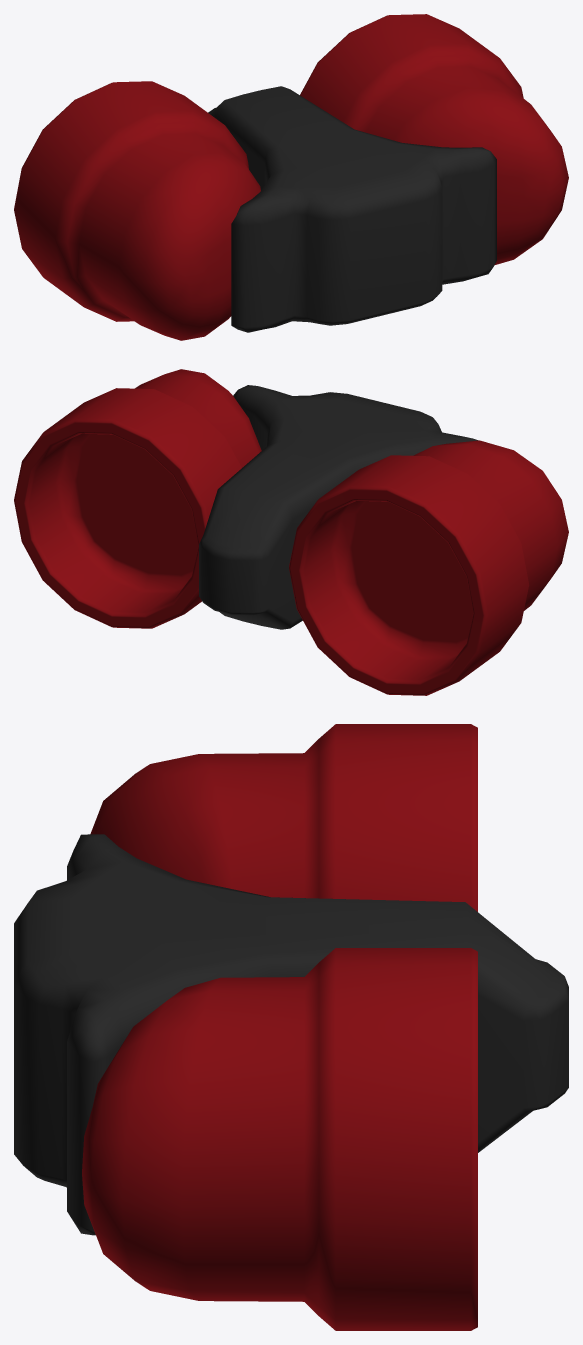
Rendered from Ship_enemy_02_Engine.fbx.
3 renders of one model, top to bottom at view 1: azimuth 30°, elevation 25°; view 2: azimuth 150°, elevation 25°; view 3: azimuth 270°, elevation 25°, orthographic. The views are drawn at different scales.
Visible parts, largest first — view 1: Ship_enemy_02_Engine; view 2: Ship_enemy_02_Engine; view 3: Ship_enemy_02_Engine.
Part boxes in pixels (box(x1,y1,x2,y2)): Ship_enemy_02_Engine: box(14, 14, 568, 340); Ship_enemy_02_Engine: box(14, 369, 568, 695); Ship_enemy_02_Engine: box(14, 724, 568, 1330).
Size of the model in its own units: 245 by 103 by 149.
